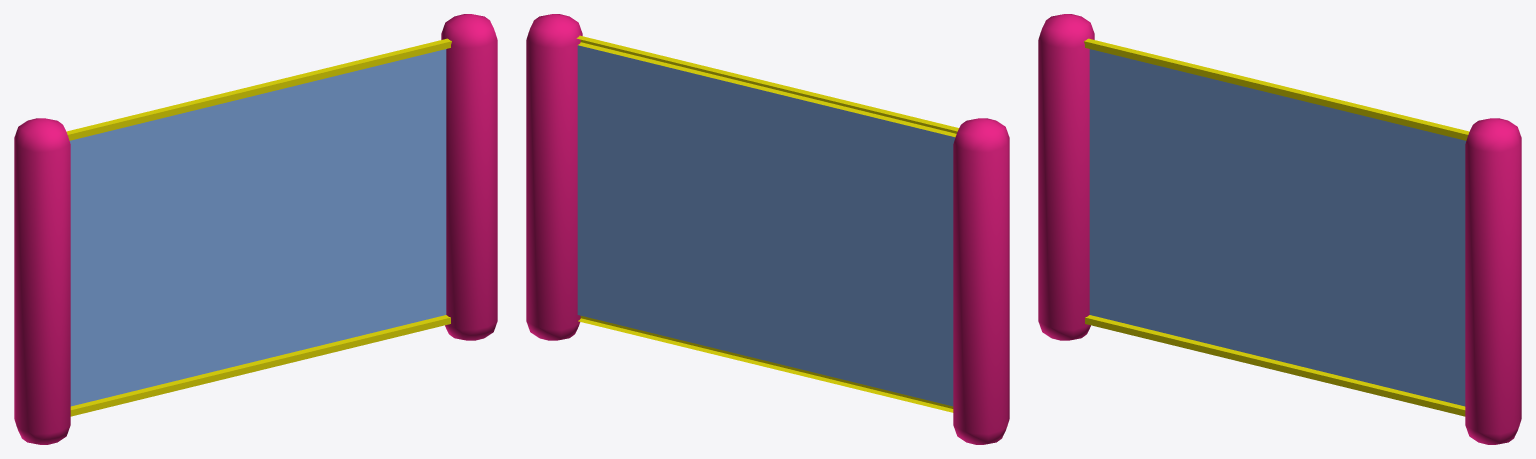
Rendered from VezneMasaBolmesi.fbx.
3 views of the same model, side by side, from view 1: azimuth 30°, elevation 25°; view 2: azimuth 150°, elevation 25°; view 3: azimuth 330°, elevation 25° (orthographic).
Visible parts, largest first — view 1: VezneMasaBolmesi; view 2: VezneMasaBolmesi; view 3: VezneMasaBolmesi.
Part boxes in pixels (x1,y1,x2,y2): VezneMasaBolmesi: (14,14,497,444); VezneMasaBolmesi: (526,14,1009,444); VezneMasaBolmesi: (1038,14,1521,444).
Bounding box in the file's own units: 113 × 73.38 × 11.13.
